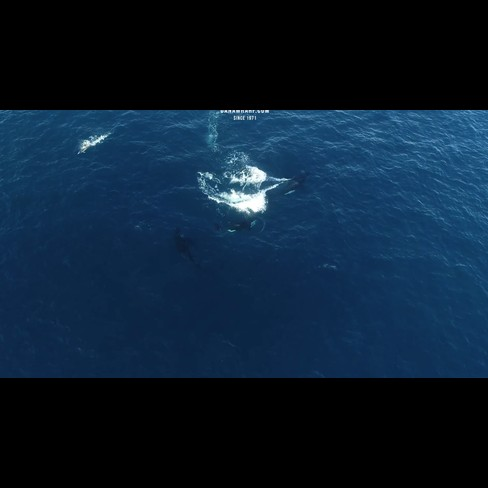orca: (159, 227, 205, 267), (275, 165, 313, 202), (205, 215, 266, 237)
